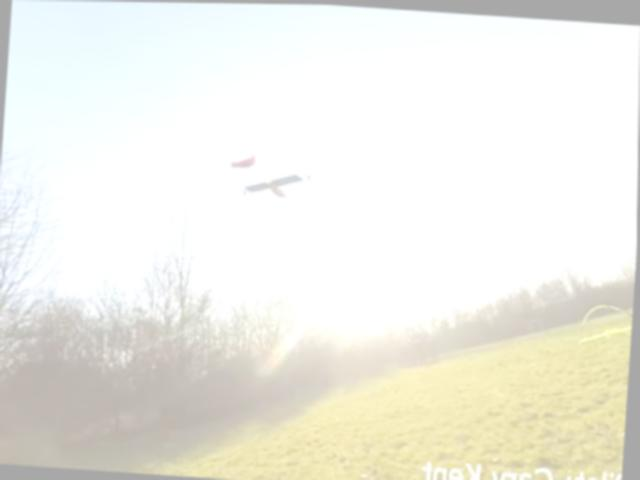uav: (221, 140, 326, 213)
